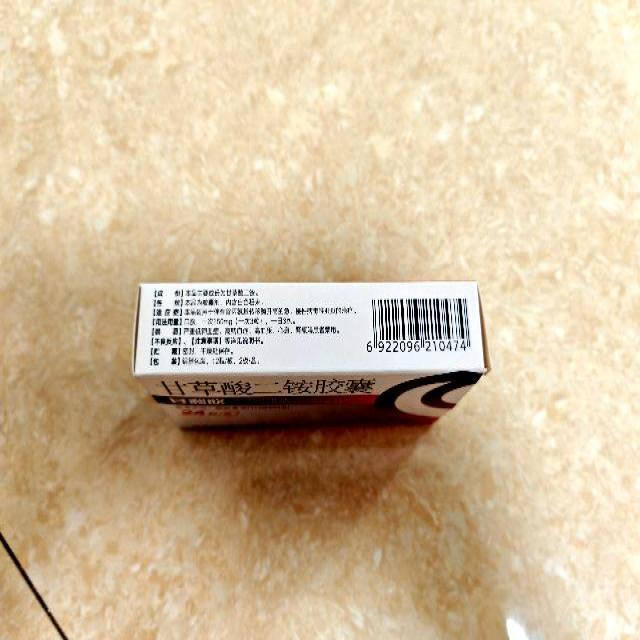box: (132, 280, 488, 432)
